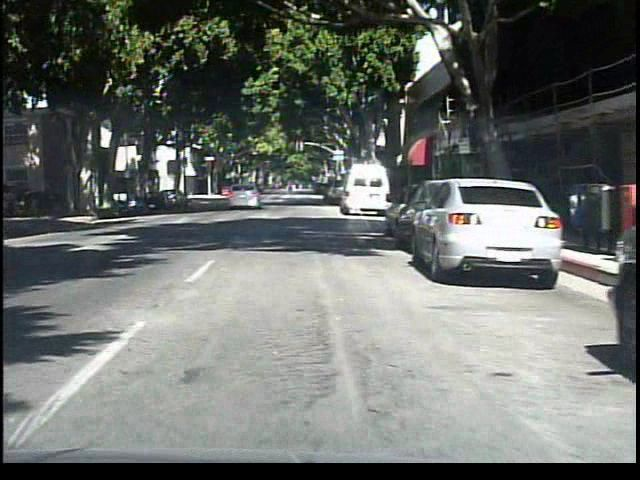person: (280, 173, 300, 205)
